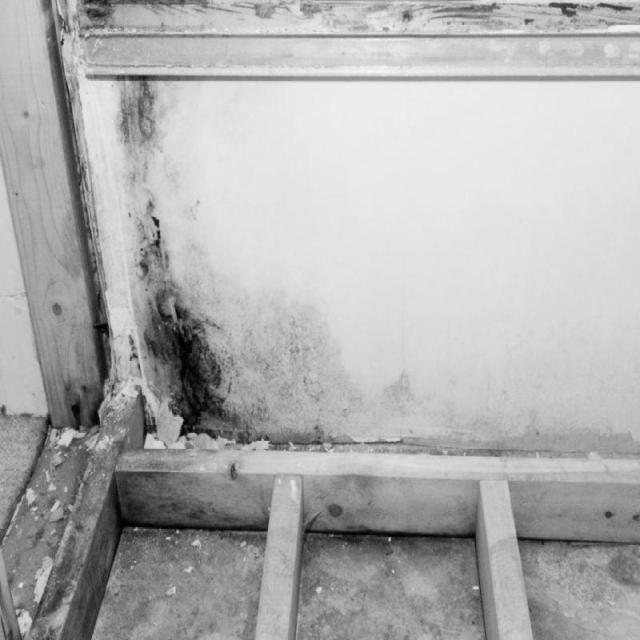stain marks: (97, 77, 521, 468)
